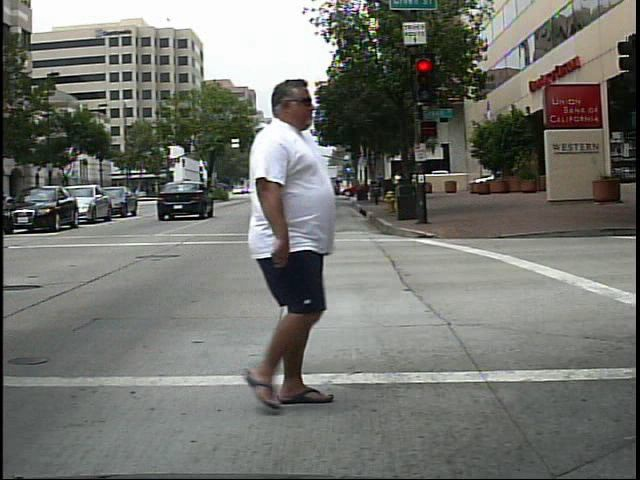person: (202, 75, 351, 414)
